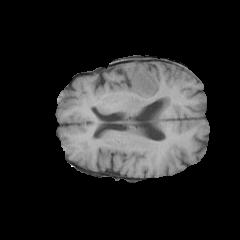glioma: (108, 63, 159, 103)
